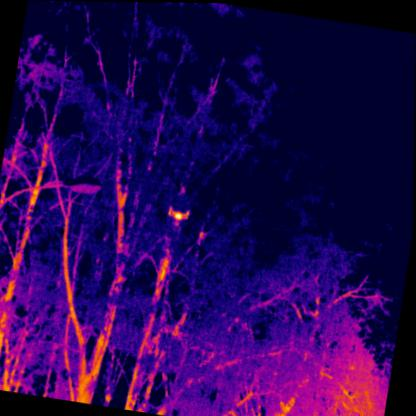drone: (166, 203, 190, 225)
